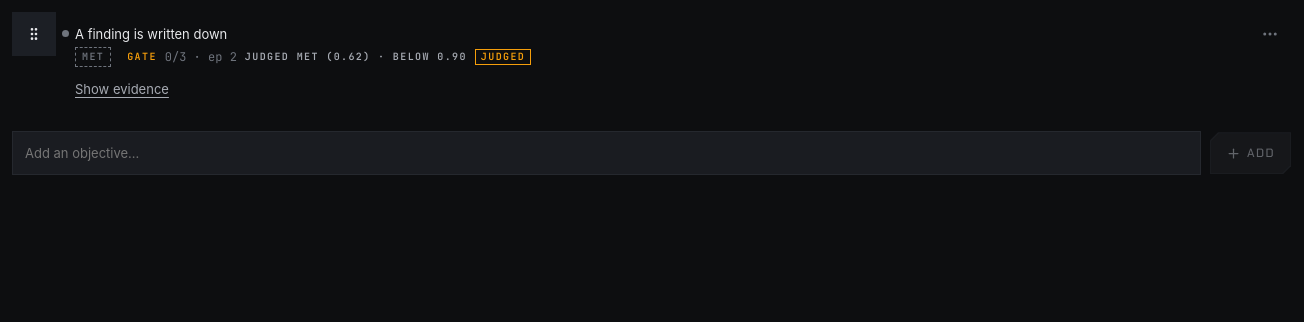
Test: below the threshold the panel says so and the row does not claim met
Check: the text with test id "objective-state" reads "judged met (0.62) · below 0.90", box [245,50,467,63]
Click the button with test id "objective-evidence-toggle".
click(122, 89)  # box [75,67,169,111]
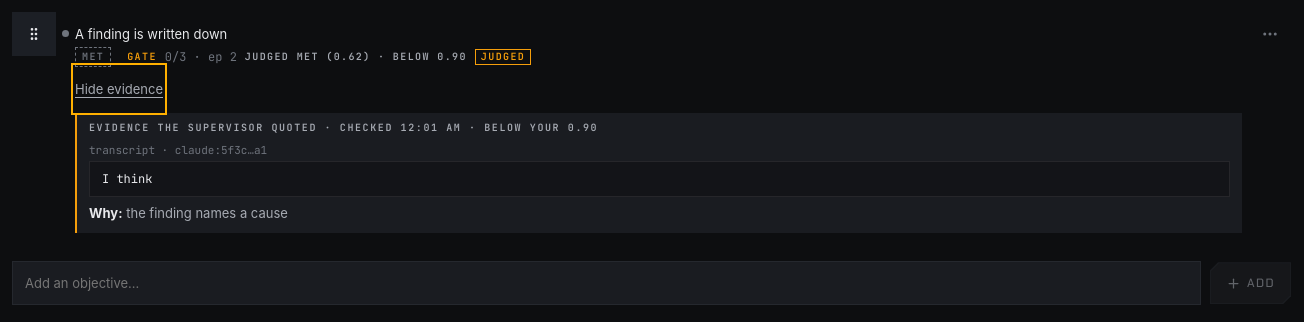
Check: the element with test id "objective-evidence" shows "below your 0.90", box [461,121,598,134]
